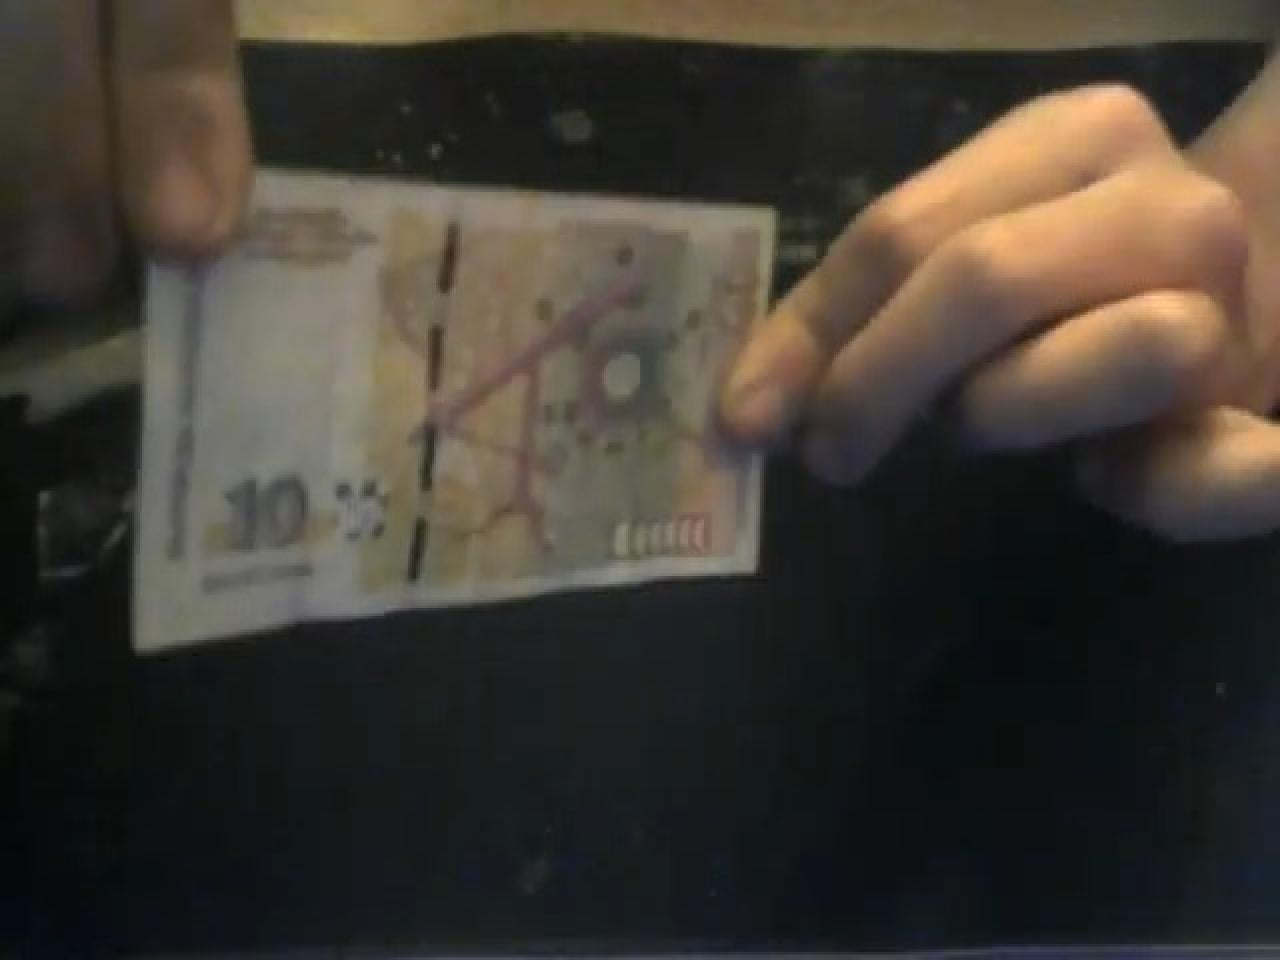10leva: (144, 168, 772, 642)
